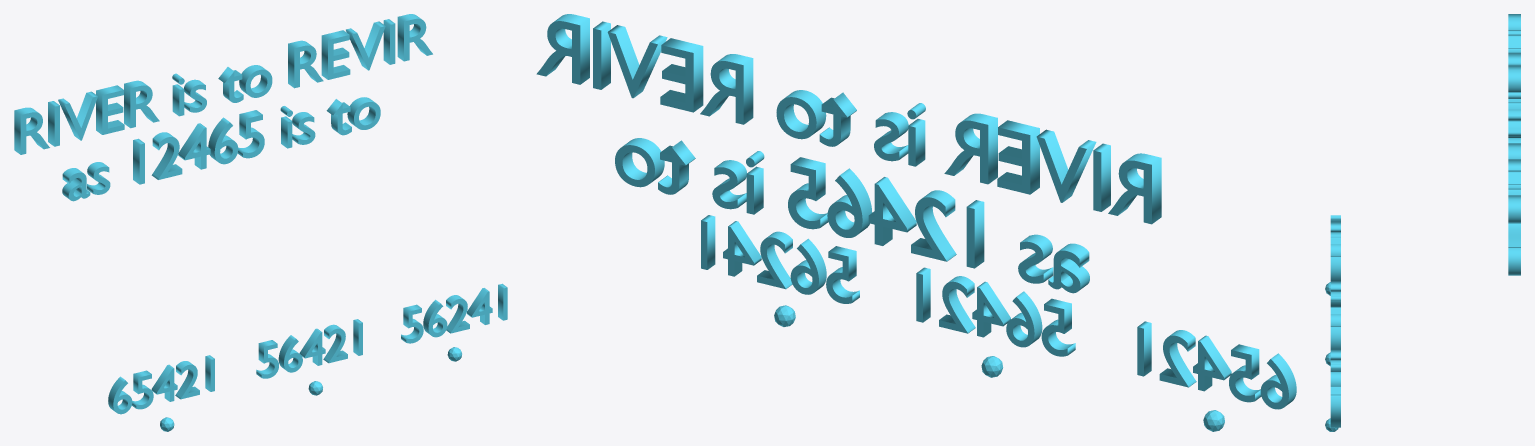
Rendered from console_test_004.fbx.
3 renders of one model, left to right at view 1: azimuth 30°, elevation 25°; view 2: azimuth 150°, elevation 25°; view 3: azimuth 270°, elevation 25°, orthographic. The views are drawn at different scales.
Visible parts, largest first — view 1: Txt_Test_01.011, Success.039, Failure.017, Failure.016; view 2: Txt_Test_01.011, Failure.017, Failure.016, Success.039; view 3: Txt_Test_01.011, Failure.016, Success.039, Failure.017.
Boxes of the visible parts, <box> form: Txt_Test_01.011: <box>14,14,432,201</box>; Success.039: <box>256,319,362,378</box>; Failure.017: <box>108,355,214,414</box>; Failure.016: <box>401,283,507,343</box>; Txt_Test_01.011: <box>536,14,1161,293</box>; Failure.017: <box>1137,321,1296,409</box>; Failure.016: <box>701,215,859,303</box>; Success.039: <box>916,267,1075,356</box>; Txt_Test_01.011: <box>1508,14,1520,275</box>; Failure.016: <box>1330,349,1340,427</box>; Success.039: <box>1330,281,1340,349</box>; Failure.017: <box>1330,215,1340,281</box>.
Size of the model in its own units: 1.6 by 0.9724 by 0.6764.
